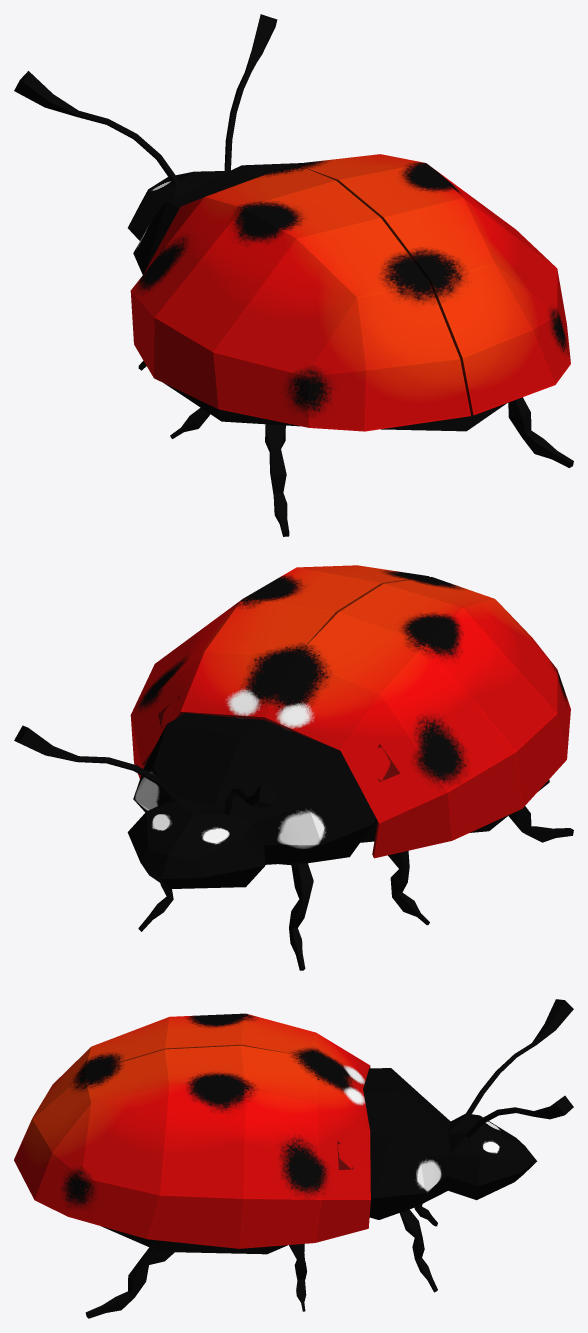
File: LadyBug.obj
3 views of the same model, one above another, from view 1: azimuth 30°, elevation 25°; view 2: azimuth 150°, elevation 25°; view 3: azimuth 270°, elevation 25° (orthographic). The views are drawn at different scales.
Parts seen in each view (by area): view 1: LadyBug_mesh; view 2: LadyBug_mesh; view 3: LadyBug_mesh.
Part boxes in pixels (x1,y1,x2,y2): LadyBug_mesh: [14, 14, 573, 536]; LadyBug_mesh: [14, 565, 573, 970]; LadyBug_mesh: [14, 999, 573, 1318].
Size of the model in its own units: 2.3 by 1.52 by 3.6.
Materials: 1 (1 with a texture image).
